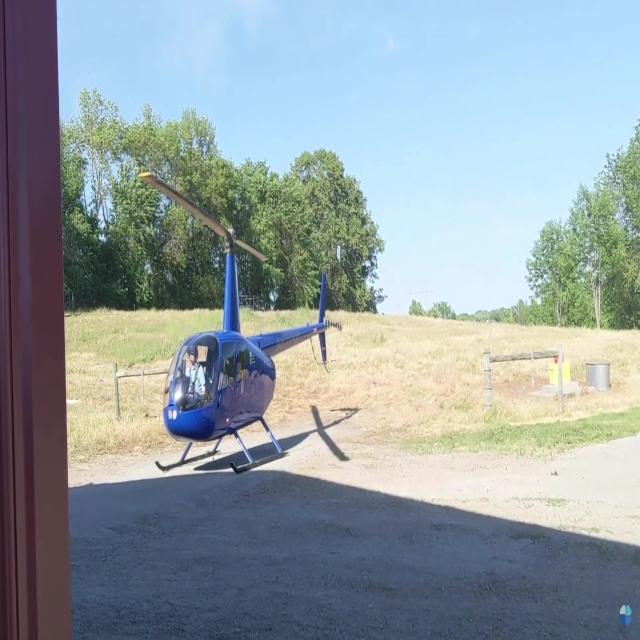CIV_HELO: (155, 226, 329, 476)
